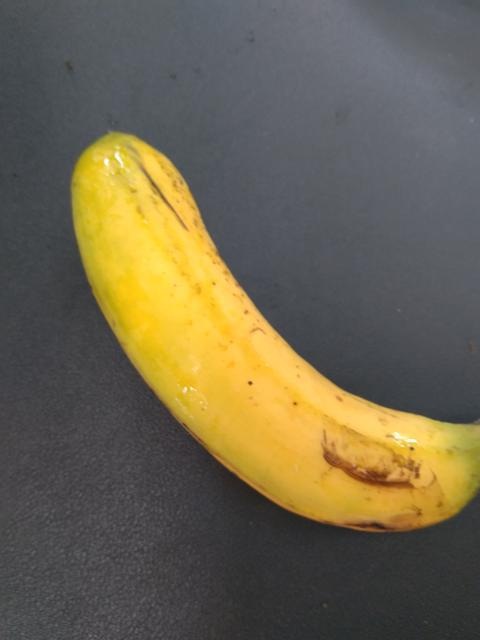ripe: (47, 111, 479, 584)
